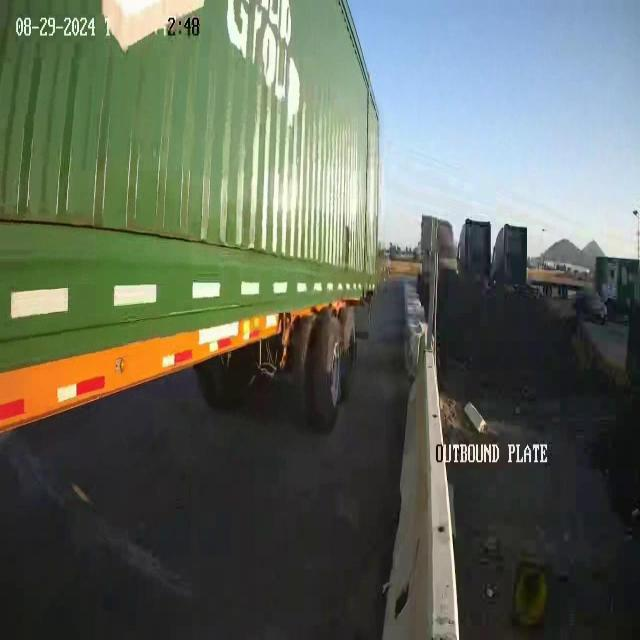TRUCK_OUT: (1, 1, 382, 435)
